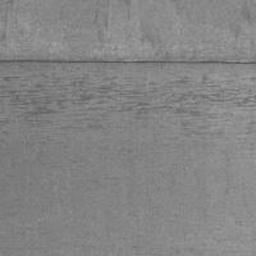Welding line: (0, 59, 256, 65)
